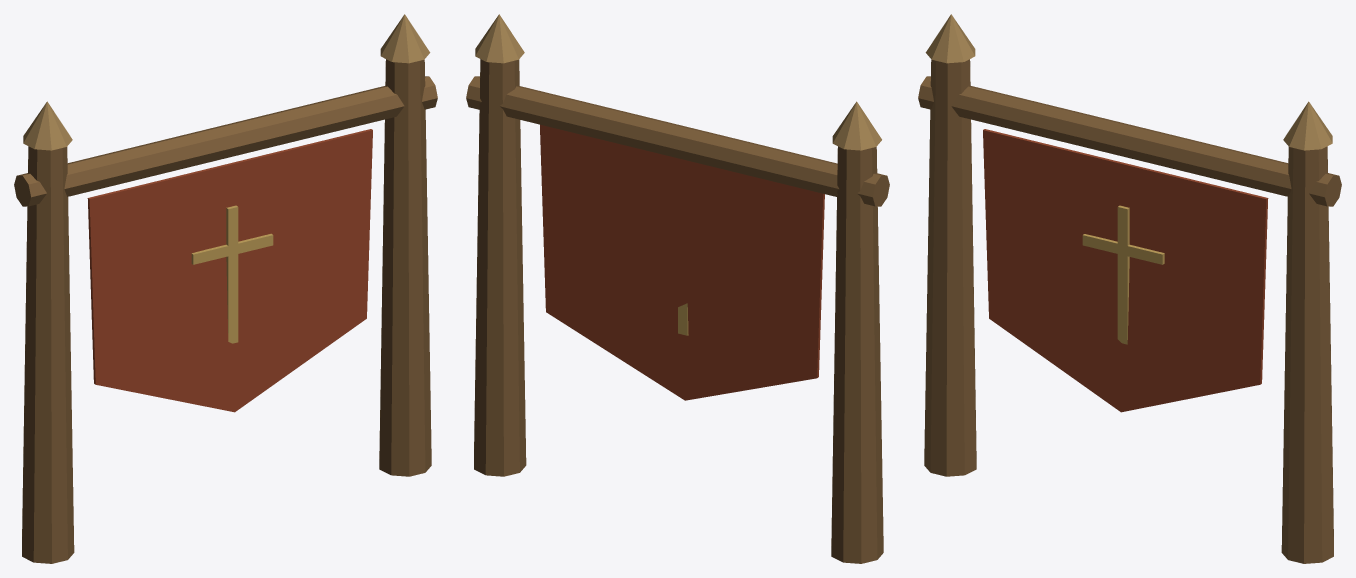
Rendered from BP_Banner_Gate.fbx.
3 renders of one model, left to right at view 1: azimuth 30°, elevation 25°; view 2: azimuth 150°, elevation 25°; view 3: azimuth 330°, elevation 25°, orthographic.
Visible parts, largest first — view 1: BP_Banner_Gate; view 2: BP_Banner_Gate; view 3: BP_Banner_Gate.
Boxes of the visible parts, x1,y1,x2,y2 form: BP_Banner_Gate: [14, 14, 437, 563]; BP_Banner_Gate: [466, 14, 889, 563]; BP_Banner_Gate: [918, 14, 1341, 563].
Size of the model in its own units: 330 by 350 by 36.85.
